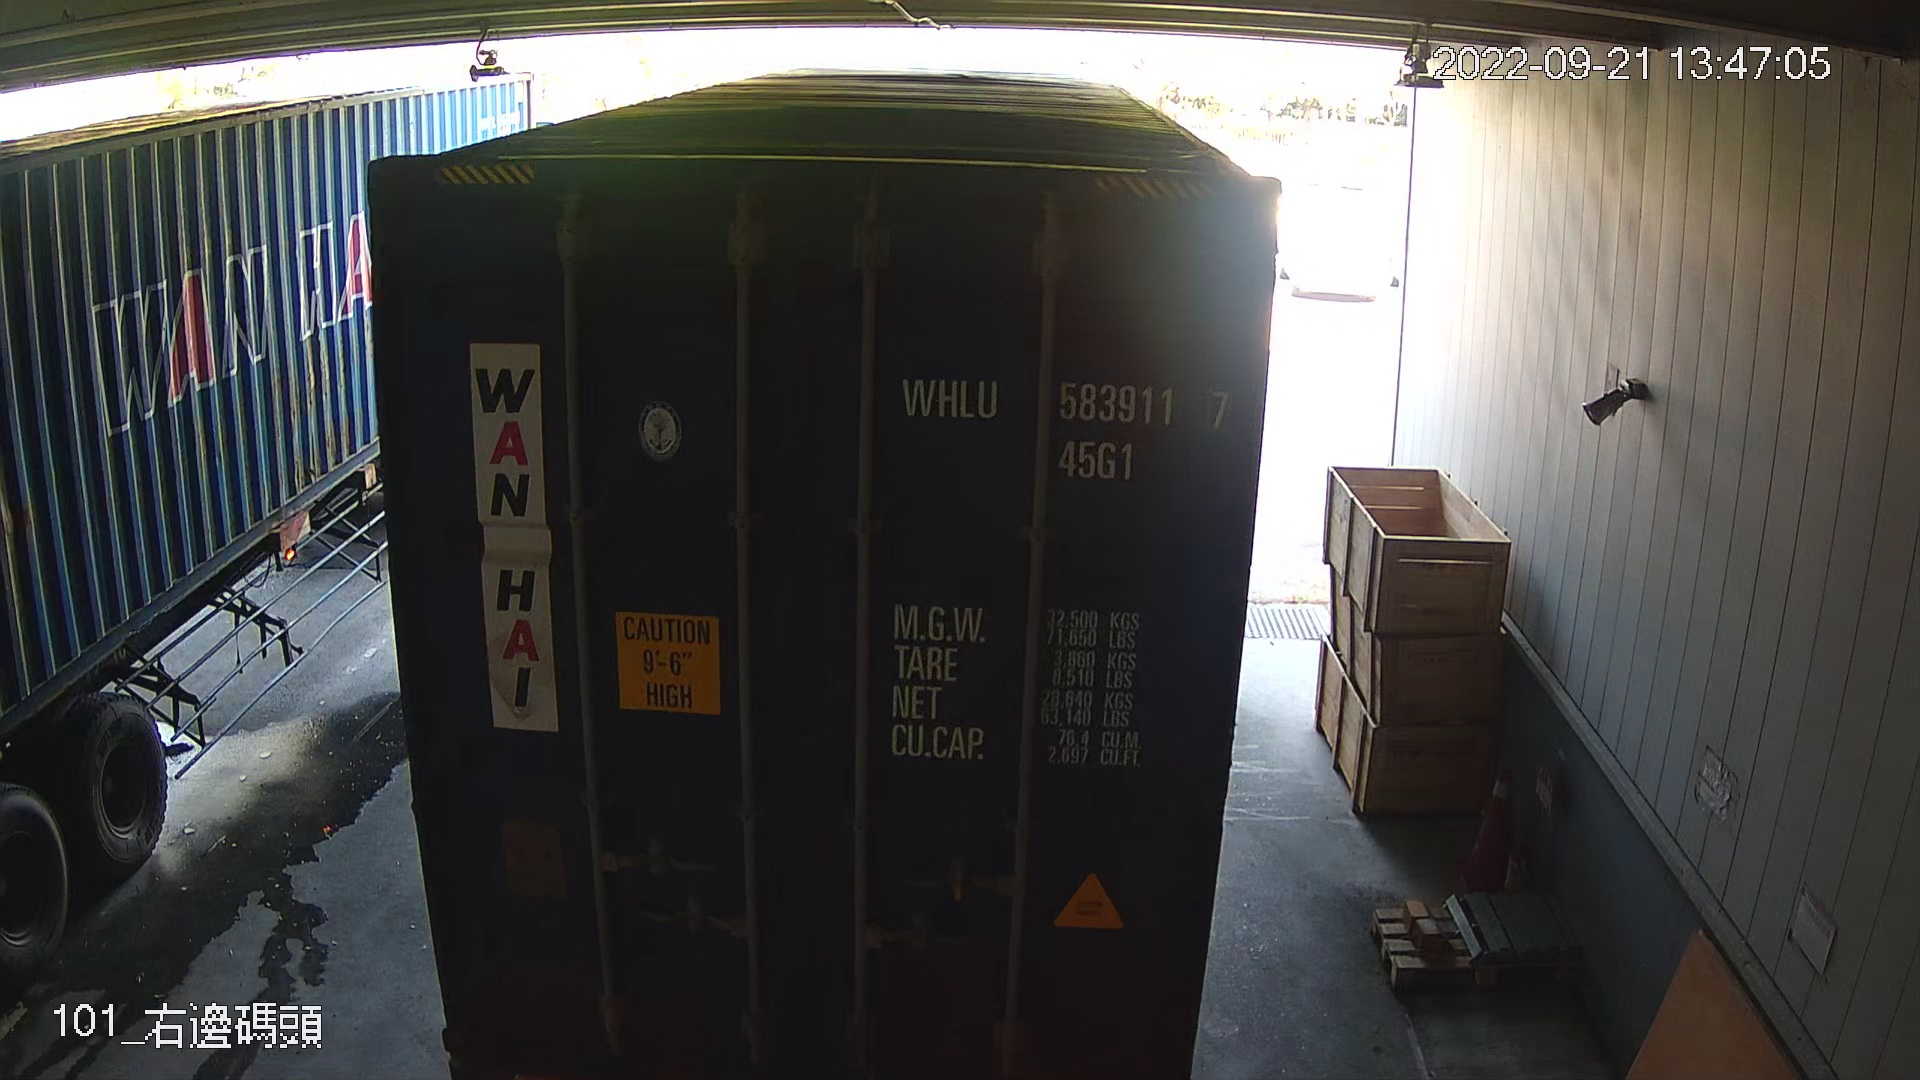container: (884, 360, 1247, 489)
